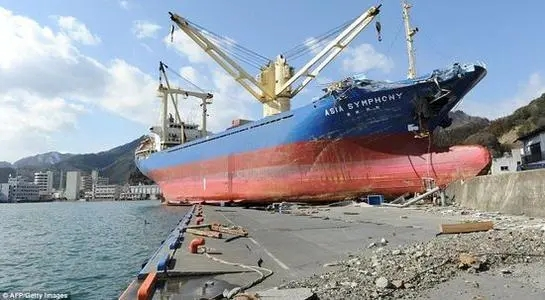Cargoship: (131, 1, 487, 210)
